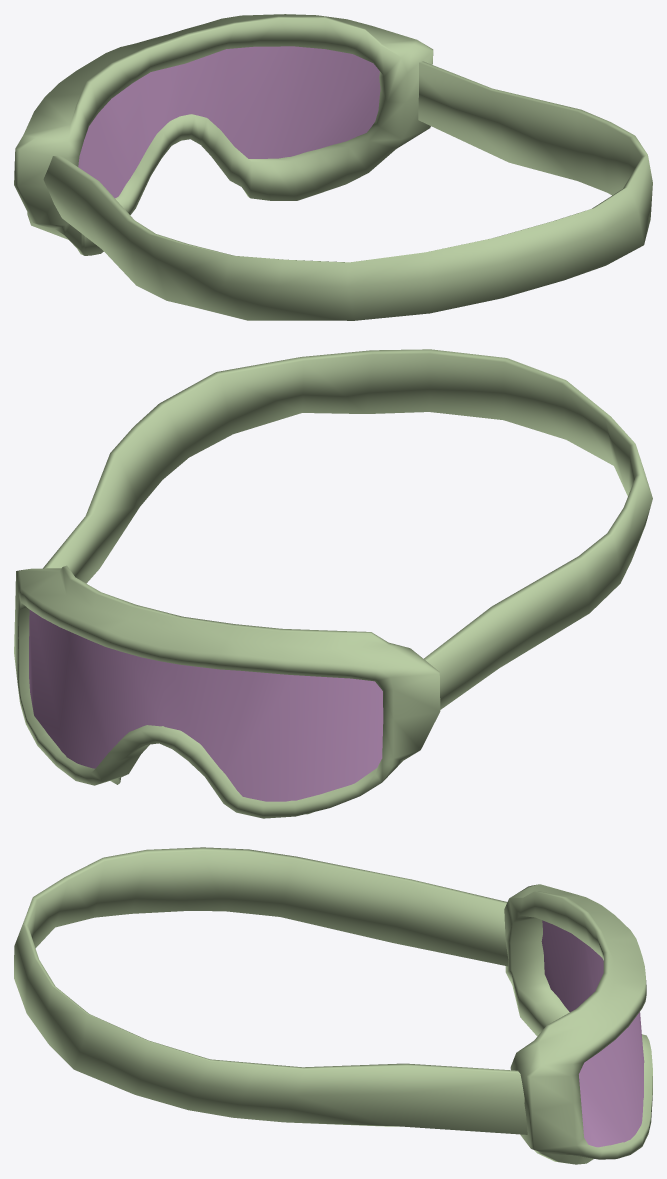
The model's file is glasses.fbx.
3 renders of one model, top to bottom at view 1: azimuth 30°, elevation 25°; view 2: azimuth 150°, elevation 25°; view 3: azimuth 270°, elevation 25°, orthographic. The views are drawn at different scales.
Parts seen in each view (by area): view 1: Stalker6; view 2: Stalker6; view 3: Stalker6.
Part boxes in pixels (x1,y1,x2,y2): Stalker6: [14, 14, 652, 320]; Stalker6: [14, 349, 652, 818]; Stalker6: [14, 847, 652, 1164].
Bounding box in the file's own units: 19.95 × 8.47 × 25.31.
